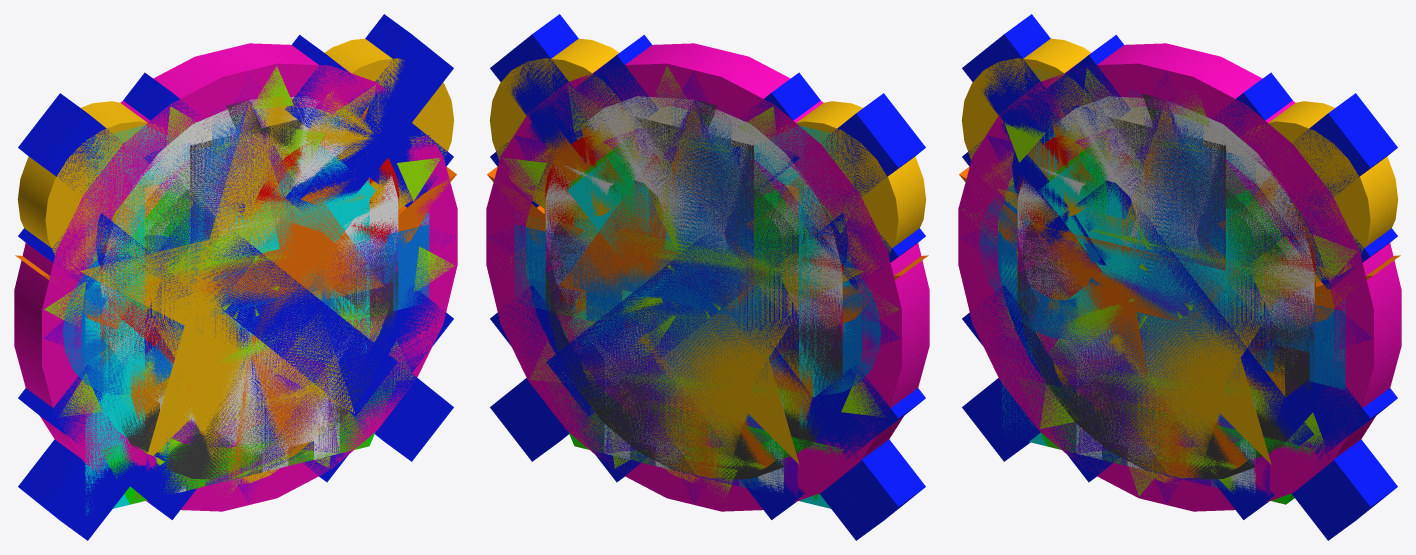
The model's file is setA.fbx.
3 renders of one model, left to right at view 1: azimuth 30°, elevation 25°; view 2: azimuth 150°, elevation 25°; view 3: azimuth 330°, elevation 25°, orthographic.
Visible parts, largest first — view 1: powerup_18, powerup_07, powerup_13, powerup_04, powerup_01, powerup_05, powerup_19, powerup_03, powerup_15, powerup_24, powerup_06, powerup_08 (+10 smaller); view 2: powerup_07, powerup_18, powerup_17, powerup_03, powerup_04, powerup_13, powerup_22, powerup_05, powerup_06, powerup_15, powerup_14, powerup_11 (+10 smaller); view 3: powerup_07, powerup_18, powerup_03, powerup_04, powerup_17, powerup_13, powerup_22, powerup_14, powerup_15, powerup_10, powerup_06, powerup_11 (+12 smaller).
Boxes of the visible parts, box(x1,y1,x2,y2) form: powerup_18: box(18, 14, 453, 540); powerup_07: box(14, 43, 457, 511); powerup_13: box(17, 38, 454, 483); powerup_04: box(101, 96, 398, 492); powerup_01: box(79, 100, 410, 455); powerup_05: box(96, 143, 397, 416); powerup_19: box(85, 125, 429, 514); powerup_03: box(102, 100, 398, 479); powerup_15: box(15, 104, 456, 478); powerup_24: box(117, 105, 383, 388); powerup_06: box(62, 224, 429, 394); powerup_08: box(44, 66, 455, 496); powerup_07: box(486, 43, 929, 511); powerup_18: box(490, 14, 925, 540); powerup_17: box(604, 91, 783, 493); powerup_03: box(545, 100, 842, 479); powerup_04: box(545, 96, 842, 492); powerup_13: box(489, 38, 926, 483); powerup_22: box(582, 96, 808, 470); powerup_05: box(546, 146, 848, 416); powerup_06: box(514, 224, 881, 395); powerup_15: box(487, 112, 928, 478); powerup_14: box(487, 71, 901, 504); powerup_11: box(546, 134, 843, 500); powerup_07: box(958, 43, 1401, 511); powerup_18: box(962, 14, 1397, 540); powerup_03: box(1017, 94, 1314, 479); powerup_04: box(1017, 96, 1314, 492); powerup_17: box(1076, 91, 1255, 493); powerup_13: box(961, 38, 1398, 483); powerup_22: box(1062, 96, 1283, 480); powerup_14: box(959, 71, 1373, 504); powerup_15: box(959, 112, 1400, 478); powerup_10: box(1039, 150, 1281, 377); powerup_06: box(979, 185, 1345, 389); powerup_11: box(1017, 134, 1315, 504).
Size of the model in its own units: 0.694 by 0.694 by 0.08.
